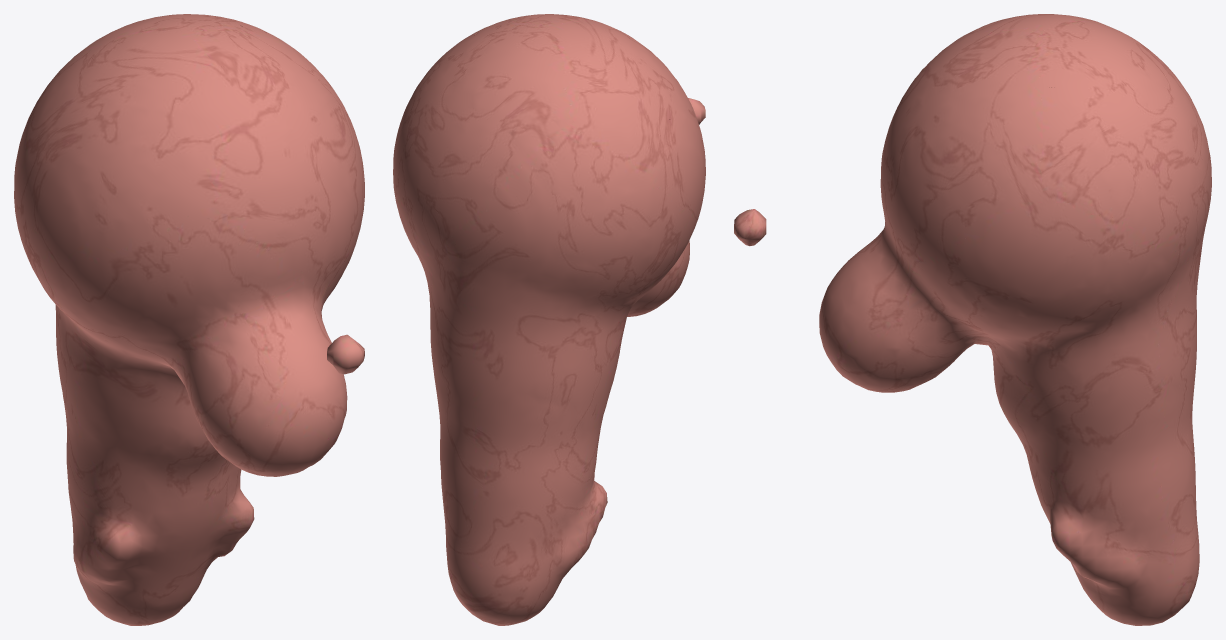
File: pb-w07.6edab1b5.glb
The picture shows the model from 3 angles, left to right: view 1: azimuth 30°, elevation 25°; view 2: azimuth 150°, elevation 25°; view 3: azimuth 270°, elevation 25°; orthographic projection. The views are drawn at different scales.
Visible parts, largest first — view 1: Baby; view 2: Baby; view 3: Baby.
Part boxes in pixels (x1,y1,x2,y2): Baby: (14,14,364,625); Baby: (393,14,705,625); Baby: (734,14,1211,625).
Bounding box in the file's own units: 0.00482 × 0.0095 × 0.00695.
1 material, 1 textured.
